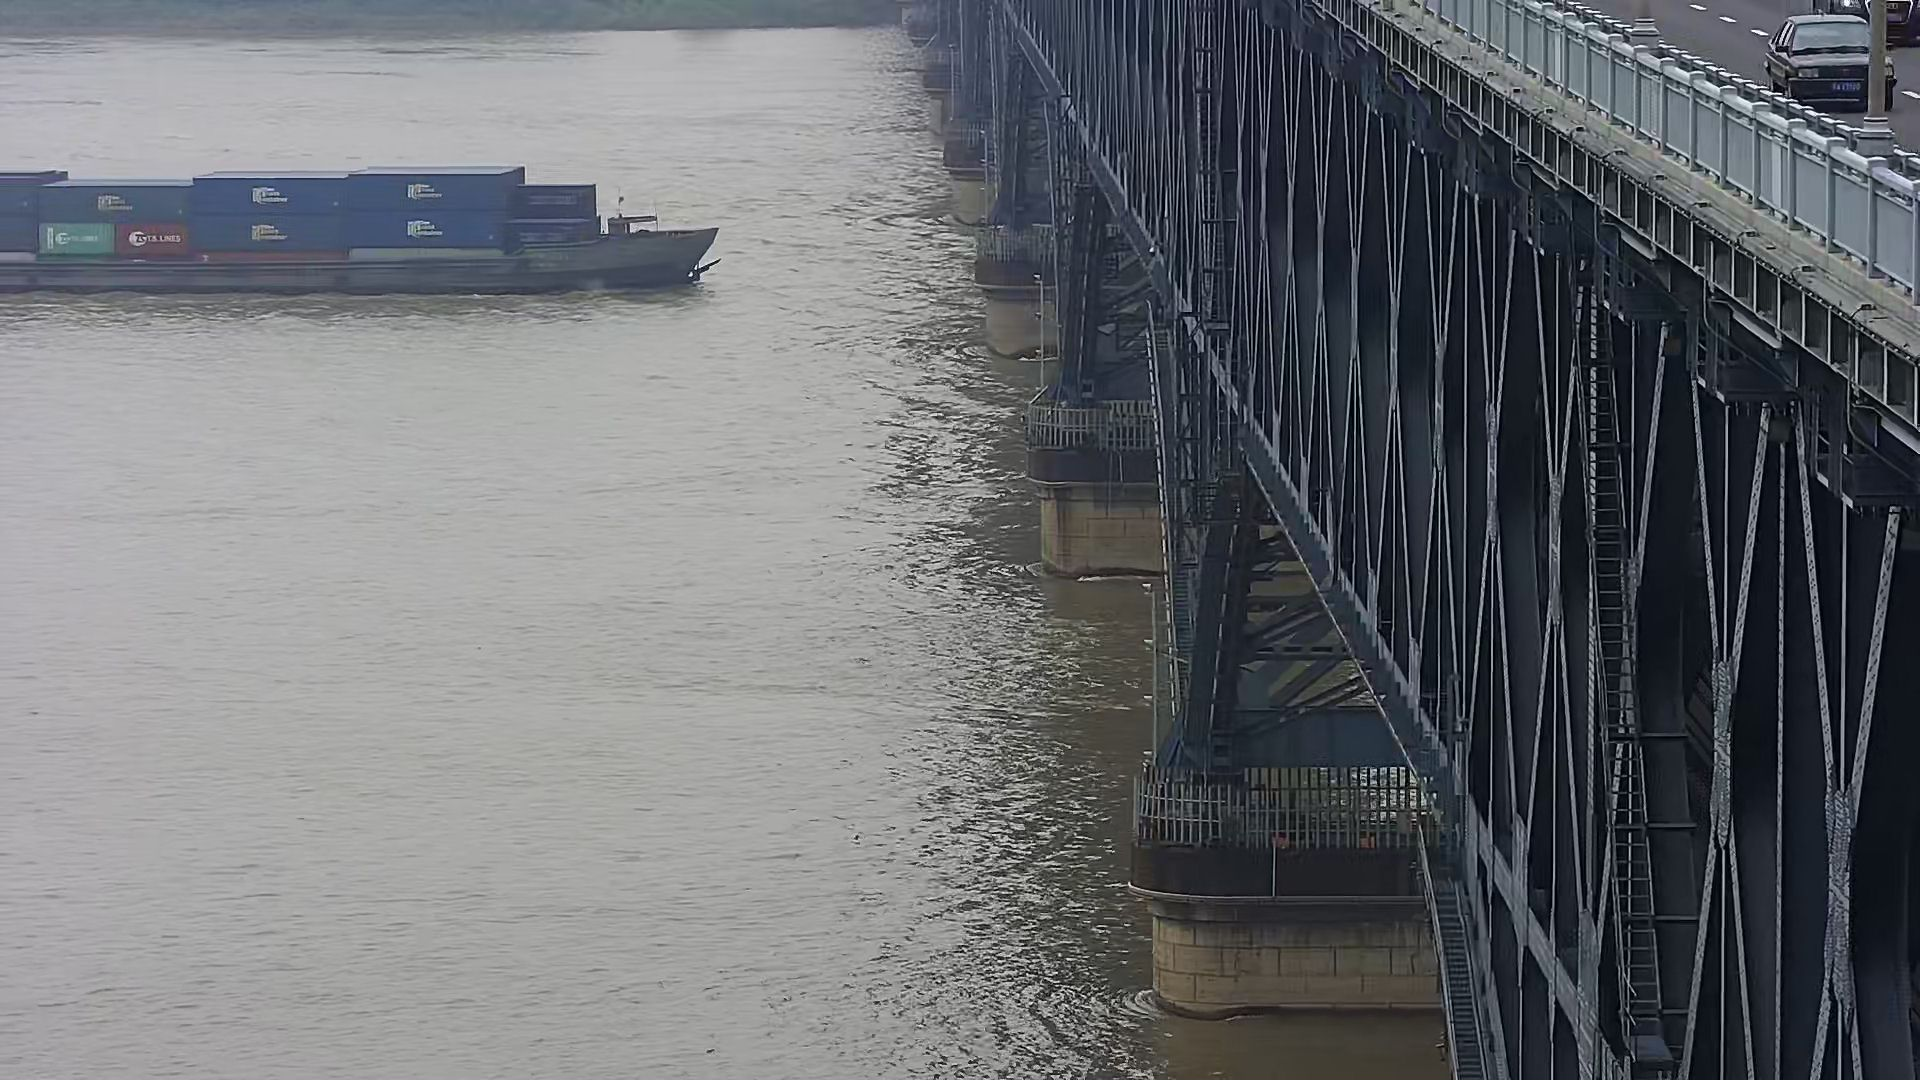bridge: (901, 1, 1917, 1073)
ship: (1, 152, 721, 301)
